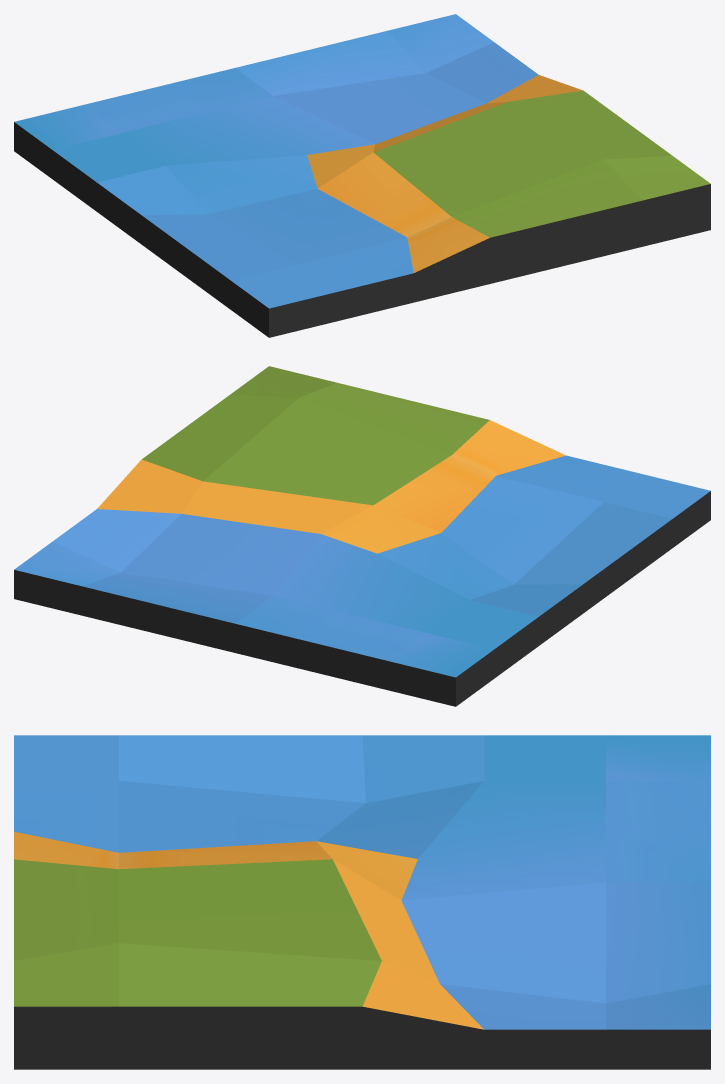
The model's file is sea_angle_1.fbx.
3 views of the same model, one above another, from view 1: azimuth 30°, elevation 25°; view 2: azimuth 150°, elevation 25°; view 3: azimuth 270°, elevation 25° (orthographic). The views are drawn at different scales.
Visible parts, largest first — view 1: block.003; view 2: block.003; view 3: block.003.
Part boxes in pixels (left/top/right/bottom): block.003: left=14, top=14, right=710, bottom=337; block.003: left=14, top=366, right=710, bottom=706; block.003: left=14, top=735, right=710, bottom=1069.
Size of the model in its own units: 200 by 200 by 25.66.
Materials: 1 (1 with a texture image).
